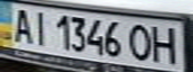1: (48, 11, 72, 51)
3: (66, 15, 87, 53)
4: (84, 16, 106, 56)
6: (103, 19, 127, 58)
A: (6, 6, 36, 44)
H: (148, 22, 184, 65)
I: (27, 8, 51, 46)
O: (124, 21, 157, 62)
